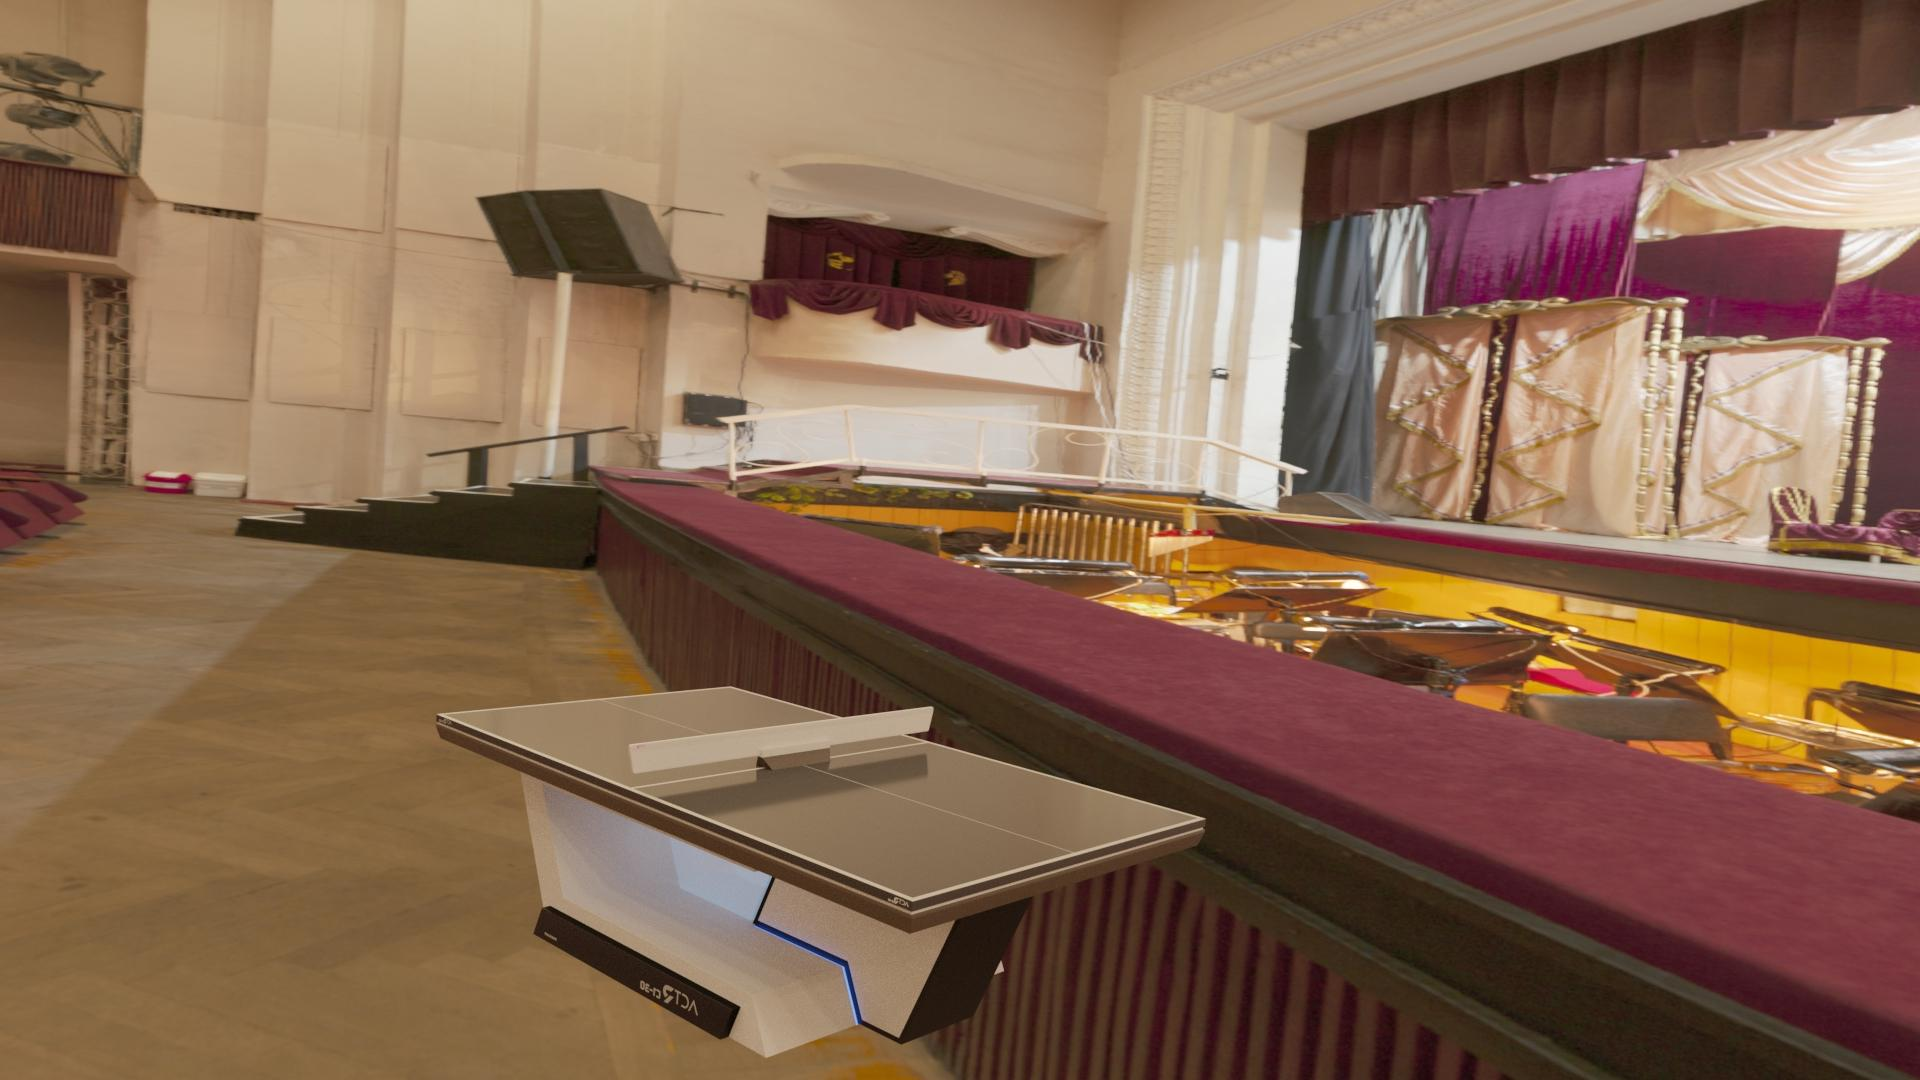table: (443, 687, 1199, 898)
